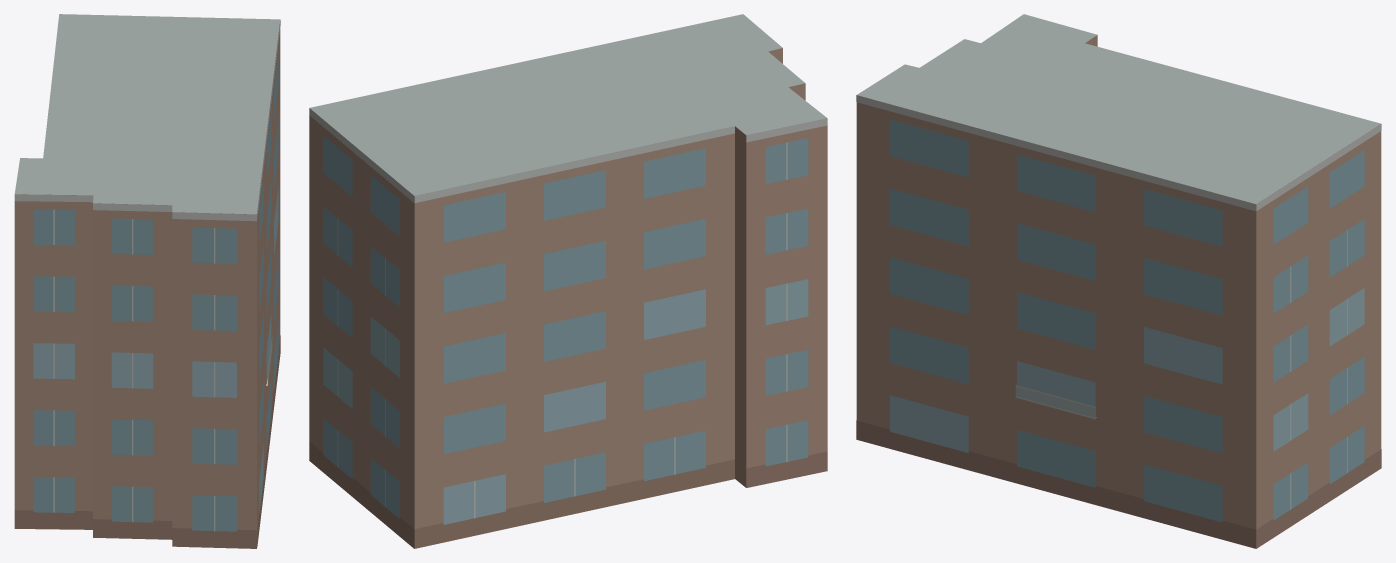
File: survey-upis-32542744.glb
The picture shows the model from 3 angles, left to right: view 1: azimuth 30°, elevation 25°; view 2: azimuth 150°, elevation 25°; view 3: azimuth 270°, elevation 25°; orthographic projection. The views are drawn at different scales.
Parts seen in each view (by area): view 1: survey-upis-32542744.tmp; view 2: survey-upis-32542744.tmp; view 3: survey-upis-32542744.tmp.
Part boxes in pixels (x1,y1,x2,y2): survey-upis-32542744.tmp: [14, 14, 280, 548]; survey-upis-32542744.tmp: [309, 14, 827, 548]; survey-upis-32542744.tmp: [856, 14, 1381, 548].
Size of the model in its own units: 14.1 by 11.9 by 16.44.
